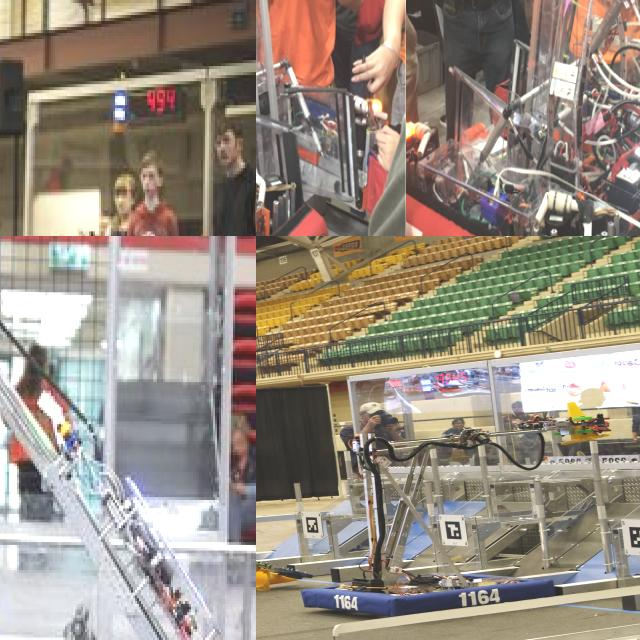FRC-Robots: (0, 236, 256, 640), (404, 0, 640, 236), (320, 406, 554, 629), (256, 0, 404, 236)
